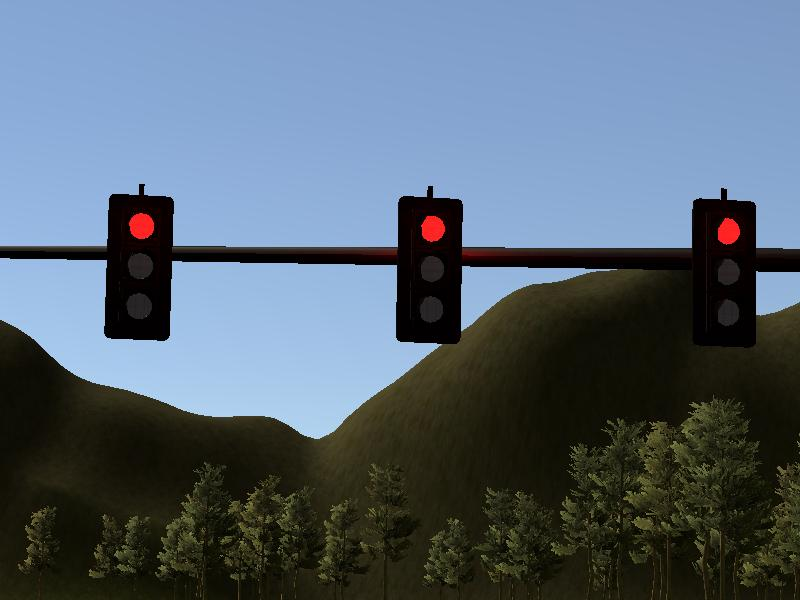red: (690, 198, 759, 348), (396, 195, 463, 345), (106, 192, 172, 341)
